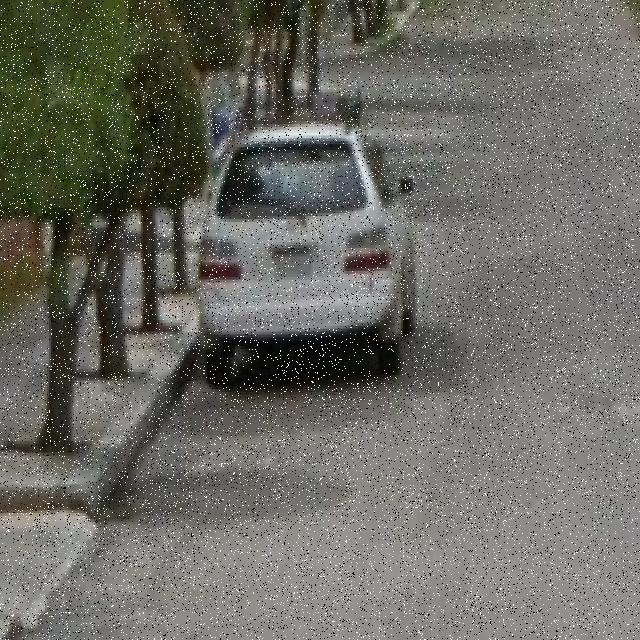cars: (201, 125, 414, 368)
